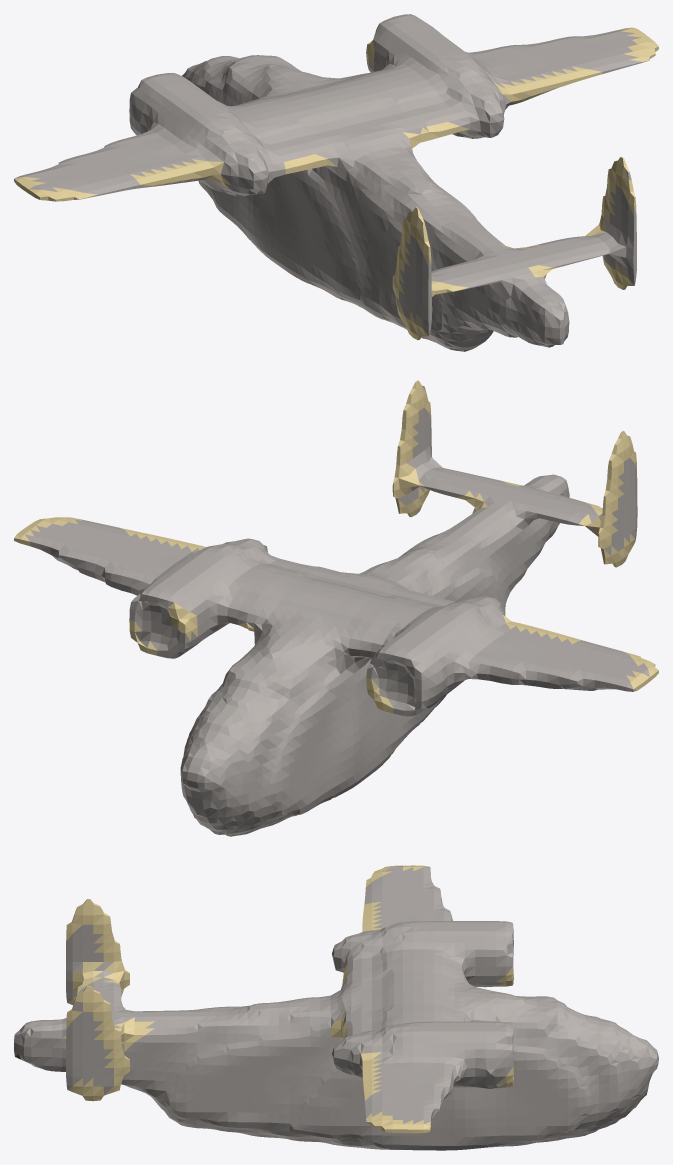
Rendered from unit_pelican.glb.
The picture shows the model from 3 angles, top to bottom: view 1: azimuth 30°, elevation 25°; view 2: azimuth 150°, elevation 25°; view 3: azimuth 270°, elevation 25°; orthographic projection. The views are drawn at different scales.
Visible parts, largest first — view 1: Mesh_0.046; view 2: Mesh_0.046; view 3: Mesh_0.046.
Boxes of the visible parts, <box> form: Mesh_0.046: <box>14,14,658,351</box>; Mesh_0.046: <box>14,380,658,836</box>; Mesh_0.046: <box>14,865,658,1150</box>.
Bounding box in the file's own units: 5.04 × 1.79 × 5.2.
